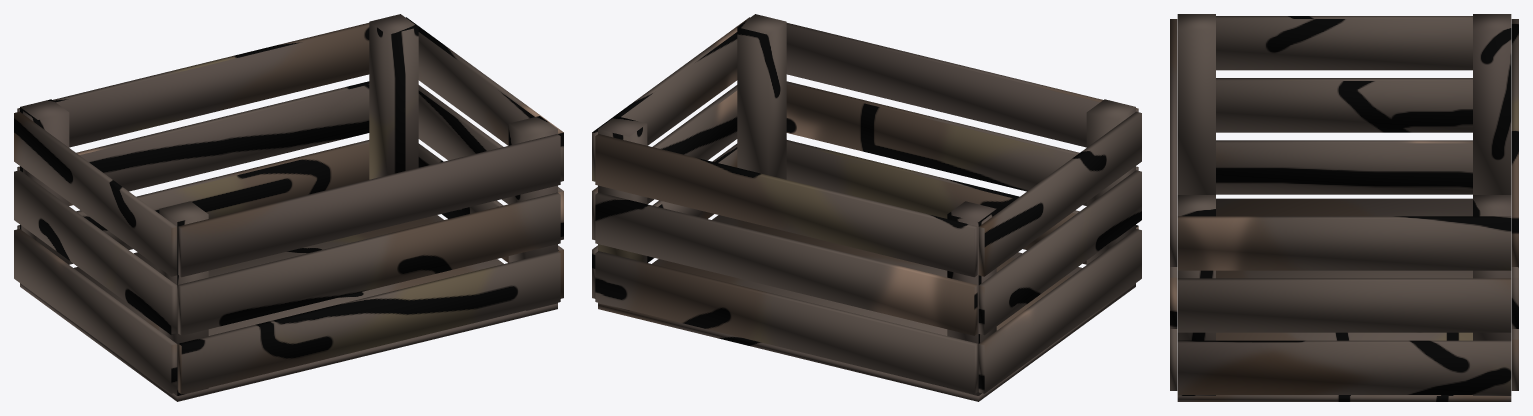
File: SM_ProduceBox.fbx
The picture shows the model from 3 angles, left to right: view 1: azimuth 30°, elevation 25°; view 2: azimuth 150°, elevation 25°; view 3: azimuth 270°, elevation 25°; orthographic projection. The views are drawn at different scales.
Visible parts, largest first — view 1: ProduceBox; view 2: ProduceBox; view 3: ProduceBox.
Boxes of the visible parts, box(x1,y1,x2,y2) form: ProduceBox: box(14, 14, 563, 401); ProduceBox: box(592, 14, 1141, 401); ProduceBox: box(1170, 14, 1518, 401).
Size of the model in its own units: 94.39 by 41.33 by 68.45.
